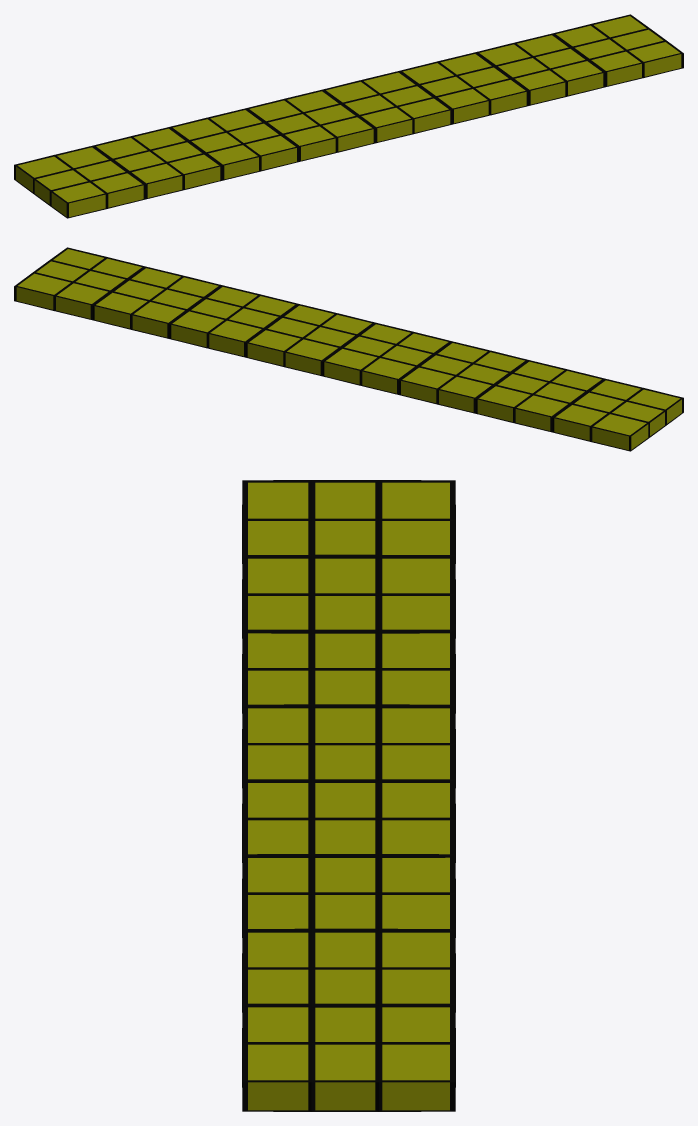
3 renders of one model, top to bottom at view 1: azimuth 30°, elevation 25°; view 2: azimuth 150°, elevation 25°; view 3: azimuth 270°, elevation 25°, orthographic. The views are drawn at different scales.
Visible parts, largest first — view 1: Cube; view 2: Cube; view 3: Cube.
Part boxes in pixels (x1=…): Cube: x1=14, y1=14, x2=683, y2=218; Cube: x1=14, y1=247, x2=683, y2=451; Cube: x1=242, y1=480, x2=455, y2=1111.
Size of the model in its own units: 724 by 112 by 4821.
